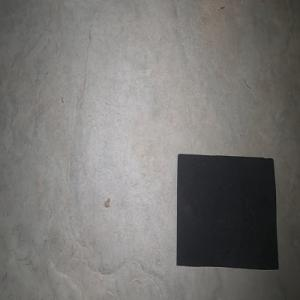PaintChip: (176, 153, 278, 270)
